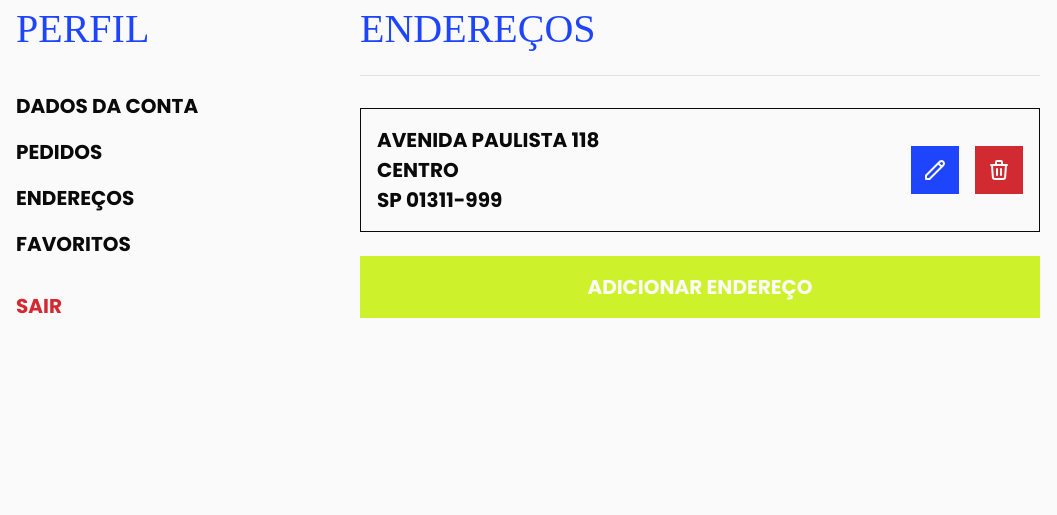
it: Addresses Page › formata o CEP digitado e busca dados de endereco automaticamente via ViaCEP
The width and height of the screenshot is (1057, 515).
Click the button "Adicionar Endereço" at (700, 287), box [360,256,1040,318]
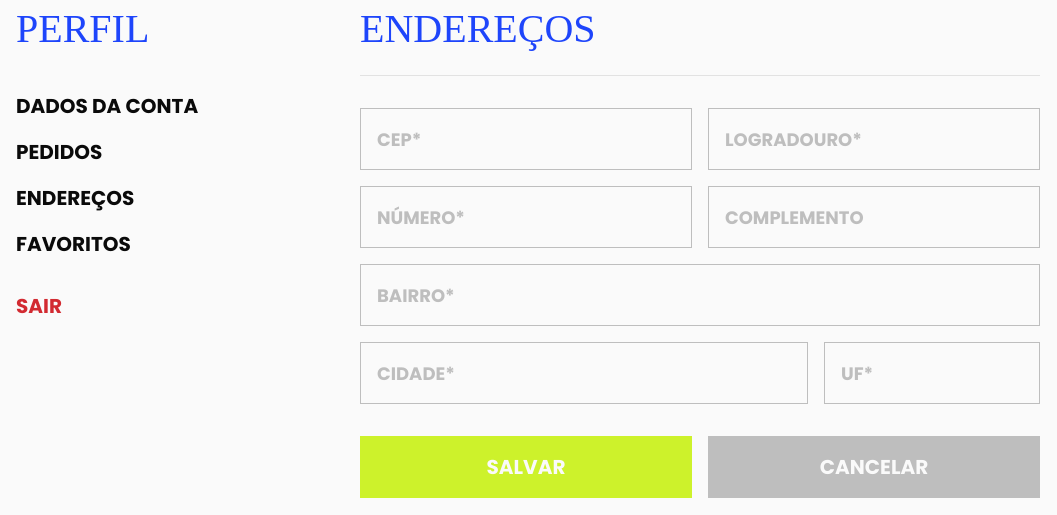
Note: Dispara mudanca do valor para o raw string
Type "01311999" into the field with placeholder "CEP*" at (526, 139), box [360,108,692,170]
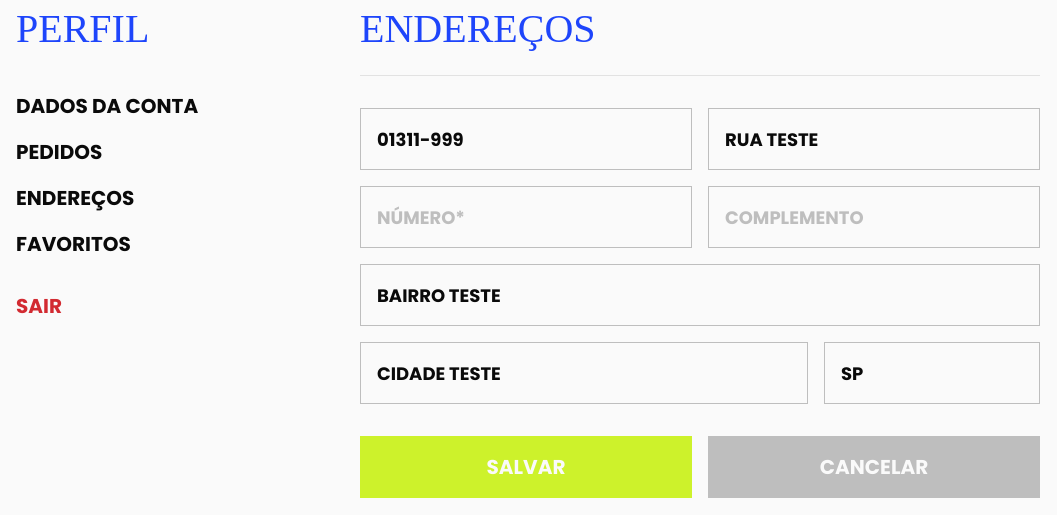
Check: the 1st field with placeholder "CEP*" holds "01311-999", box [360,108,692,170]
Check: the 2nd field with placeholder "LOGRADOURO*" holds "Rua Teste", box [708,108,1040,170]
Check: the 3rd field with placeholder "BAIRRO*" holds "Bairro Teste", box [360,264,1040,326]
